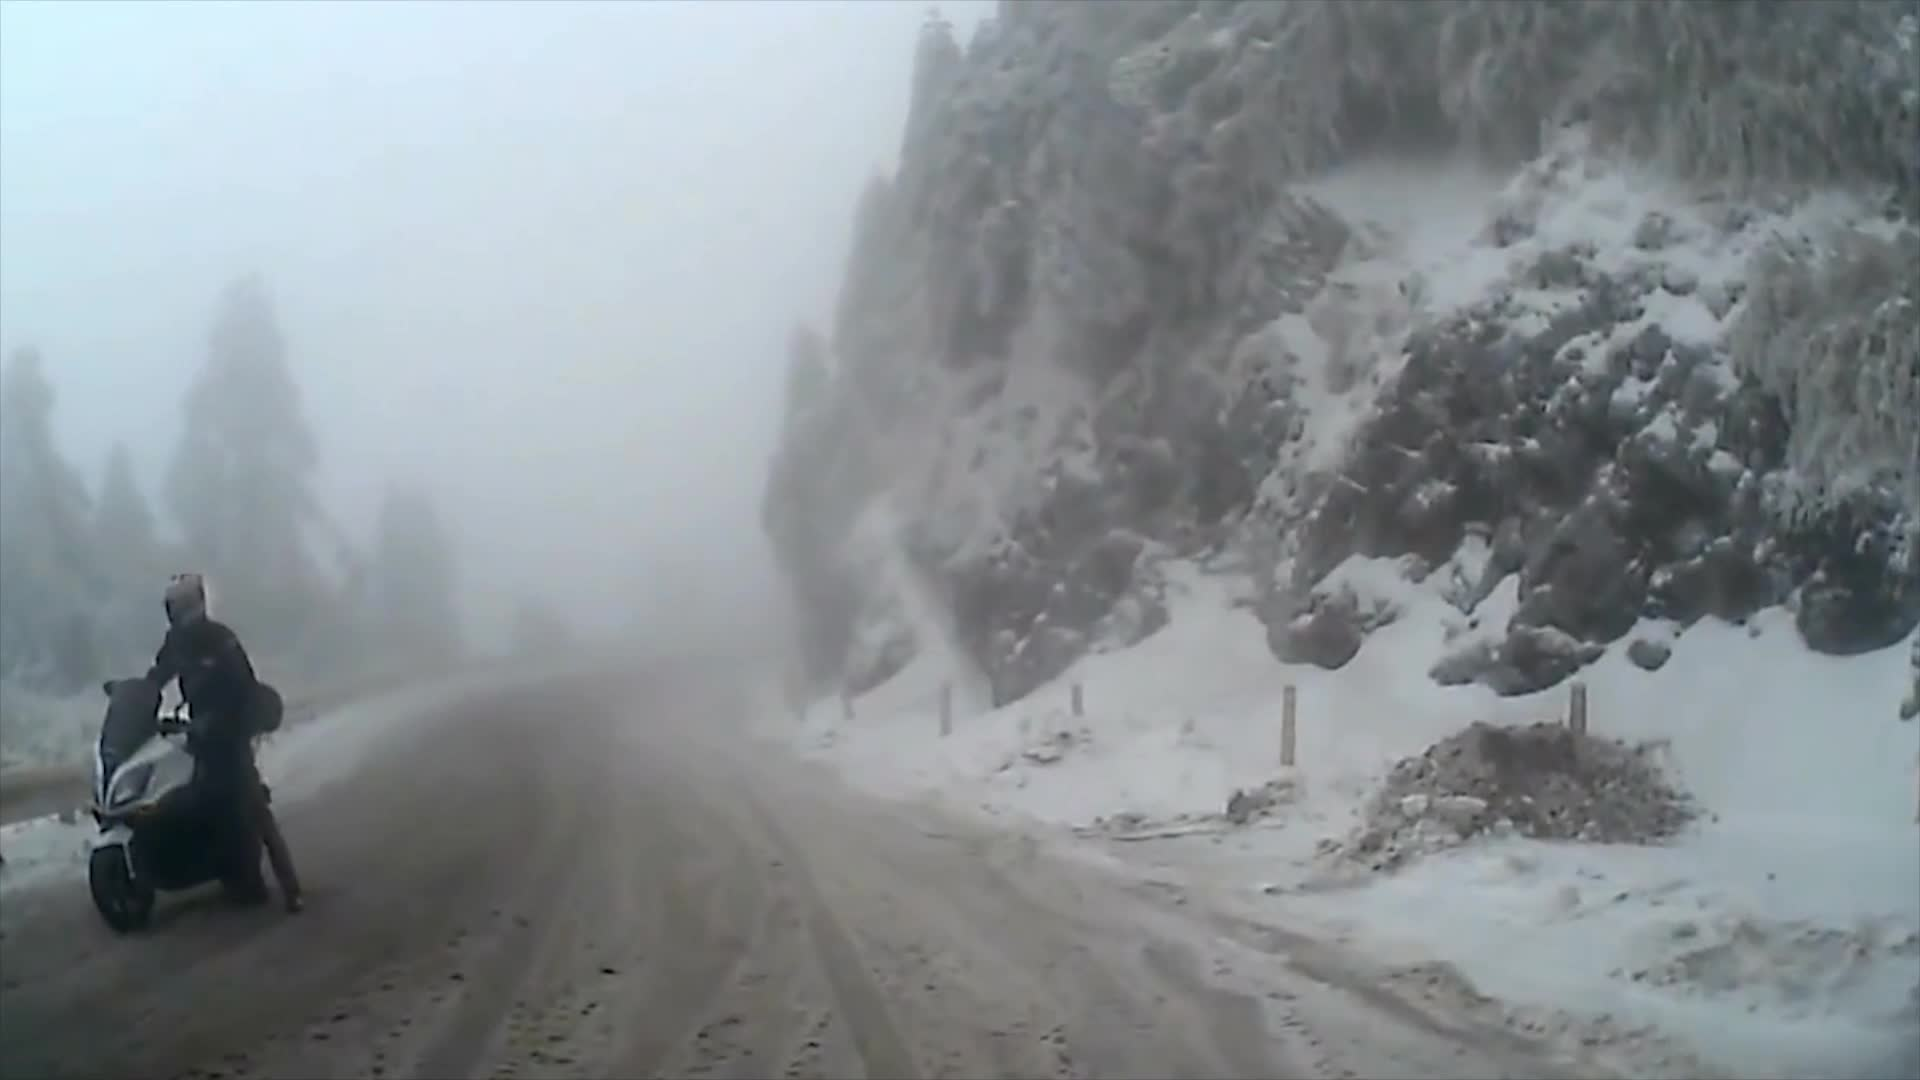pedestrian: (113, 567, 304, 922)
